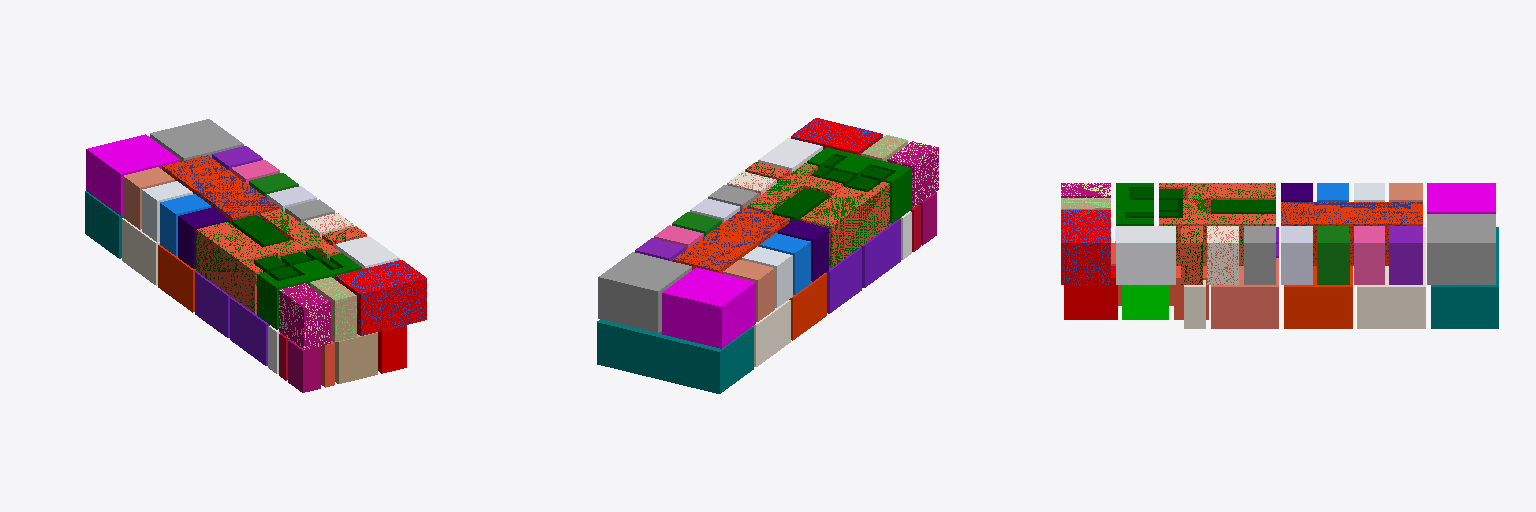
The model's file is CaddellEnergyZonesSK6.skp.dae.obj.
3 renders of one model, left to right at view 1: azimuth 30°, elevation 25°; view 2: azimuth 150°, elevation 25°; view 3: azimuth 270°, elevation 25°, orthographic.
Visible parts, largest first — view 1: Space_203__Conference_Study_ID165, Space_212__Conference_Room_ID174, Space_240.2__PhD_GRA_GTA_WorkSpace_ID312, Space_225__Open_Collaborative_Work_Area_ID364, Space_208__Future_CRC_Admin_Conference_Room_ID246, Space_205__Corridor_ID380, Space_240.1__PhD_GRA_GTA_WorkSpace_ID357, Space_110__Conference_Room_ID139, Space_210__Part-Time_Faculty_Office_ID222, Space_104__Women_s_Restroom_ID123, Space_122__Master_s_Laboratory_ID114, Space_126__FlexSpace_ID148 (+17 smaller); view 2: Space_126__FlexSpace_ID148, Space_240.2__PhD_GRA_GTA_WorkSpace_ID312, Space_203__Conference_Study_ID165, Space_240.1__PhD_GRA_GTA_WorkSpace_ID357, Space_225__Open_Collaborative_Work_Area_ID364, Space_205__Corridor_ID380, Space_212__Conference_Room_ID174, Space_208__Future_CRC_Admin_Conference_Room_ID246, Space_104__Women_s_Restroom_ID123, Space_124__FlexSpace_ID100, Space_122__Master_s_Laboratory_ID114, Space_103__Men_s_Restroom_ID57 (+14 smaller); view 3: Space_240.1__PhD_GRA_GTA_WorkSpace_ID357, Space_203__Conference_Study_ID165, Space_225__Open_Collaborative_Work_Area_ID364, Space_212__Conference_Room_ID174, Space_214__Chair_Office_ID348, Space_124__FlexSpace_ID100, Space_122__Master_s_Laboratory_ID114, Space_120__Lobby_ID23, Space_126__FlexSpace_ID148, Space_240.2__PhD_GRA_GTA_WorkSpace_ID312, Space_228__Faculty_Office_ID296, Space_112__Recruitment_Manager_ID130 (+17 smaller).
Boxes of the visible parts, box(x1,y1,x2,y2) form: Space_203__Conference_Study_ID165: box(196, 209, 339, 313); Space_212__Conference_Room_ID174: box(335, 260, 426, 335); Space_240.2__PhD_GRA_GTA_WorkSpace_ID312: box(86, 134, 179, 215); Space_225__Open_Collaborative_Work_Area_ID364: box(162, 155, 278, 224); Space_208__Future_CRC_Admin_Conference_Room_ID246: box(279, 283, 330, 349); Space_205__Corridor_ID380: box(257, 253, 361, 329); Space_240.1__PhD_GRA_GTA_WorkSpace_ID357: box(150, 119, 243, 161); Space_110__Conference_Room_ID139: box(331, 332, 377, 383); Space_210__Part-Time_Faculty_Office_ID222: box(310, 277, 356, 341); Space_104__Women_s_Restroom_ID123: box(230, 297, 269, 365); Space_122__Master_s_Laboratory_ID114: box(158, 245, 196, 312); Space_126__FlexSpace_ID148: box(85, 191, 122, 258); Space_126__FlexSpace_ID148: box(597, 319, 753, 393); Space_240.2__PhD_GRA_GTA_WorkSpace_ID312: box(662, 267, 755, 348); Space_203__Conference_Study_ID165: box(747, 163, 889, 267); Space_240.1__PhD_GRA_GTA_WorkSpace_ID357: box(598, 252, 691, 332); Space_225__Open_Collaborative_Work_Area_ID364: box(673, 208, 789, 273); Space_205__Corridor_ID380: box(807, 147, 911, 223); Space_212__Conference_Room_ID174: box(791, 118, 882, 154); Space_208__Future_CRC_Admin_Conference_Room_ID246: box(887, 141, 938, 207); Space_104__Women_s_Restroom_ID123: box(861, 219, 900, 287); Space_124__FlexSpace_ID100: box(752, 300, 790, 366); Space_122__Master_s_Laboratory_ID114: box(789, 273, 826, 340); Space_103__Men_s_Restroom_ID57: box(826, 247, 861, 313); Space_240.1__PhD_GRA_GTA_WorkSpace_ID357: box(1427, 214, 1495, 284); Space_203__Conference_Study_ID165: box(1159, 183, 1275, 265); Space_225__Open_Collaborative_Work_Area_ID364: box(1281, 202, 1422, 265); Space_212__Conference_Room_ID174: box(1061, 210, 1110, 284); Space_214__Chair_Office_ID348: box(1116, 226, 1175, 284); Space_124__FlexSpace_ID100: box(1357, 227, 1425, 328); Space_122__Master_s_Laboratory_ID114: box(1284, 266, 1352, 328); Space_120__Lobby_ID23: box(1211, 258, 1278, 328); Space_126__FlexSpace_ID148: box(1431, 227, 1498, 328); Space_240.2__PhD_GRA_GTA_WorkSpace_ID312: box(1427, 183, 1495, 213); Space_228__Faculty_Office_ID296: box(1389, 226, 1422, 284); Space_112__Recruitment_Manager_ID130: box(1064, 266, 1117, 319).
Size of the model in its own units: 12.43 by 8.3 by 38.29.